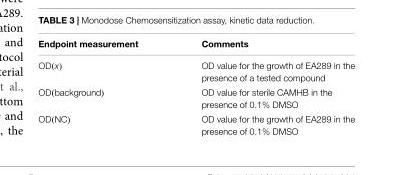table: (37, 37, 354, 135)
table column: (169, 37, 354, 135), (37, 37, 169, 135)
table column header: (37, 37, 354, 53)
table row: (37, 53, 354, 84), (37, 84, 354, 110), (37, 110, 354, 135), (37, 37, 354, 53)
